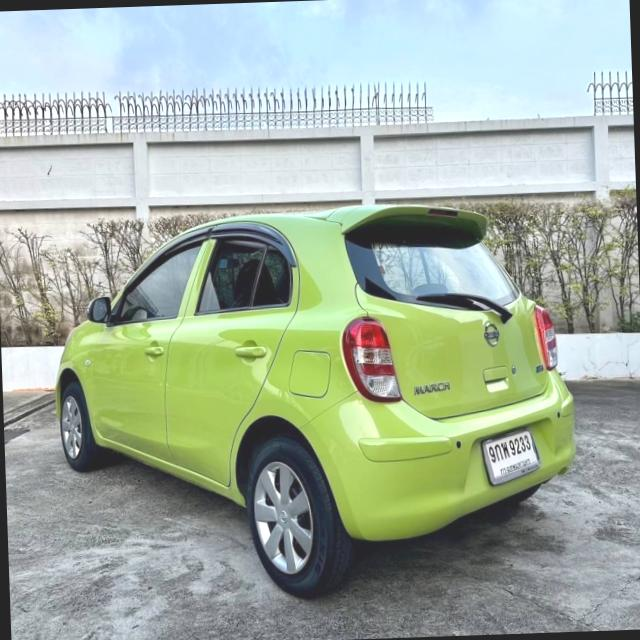license_plate: (478, 424, 544, 490)
